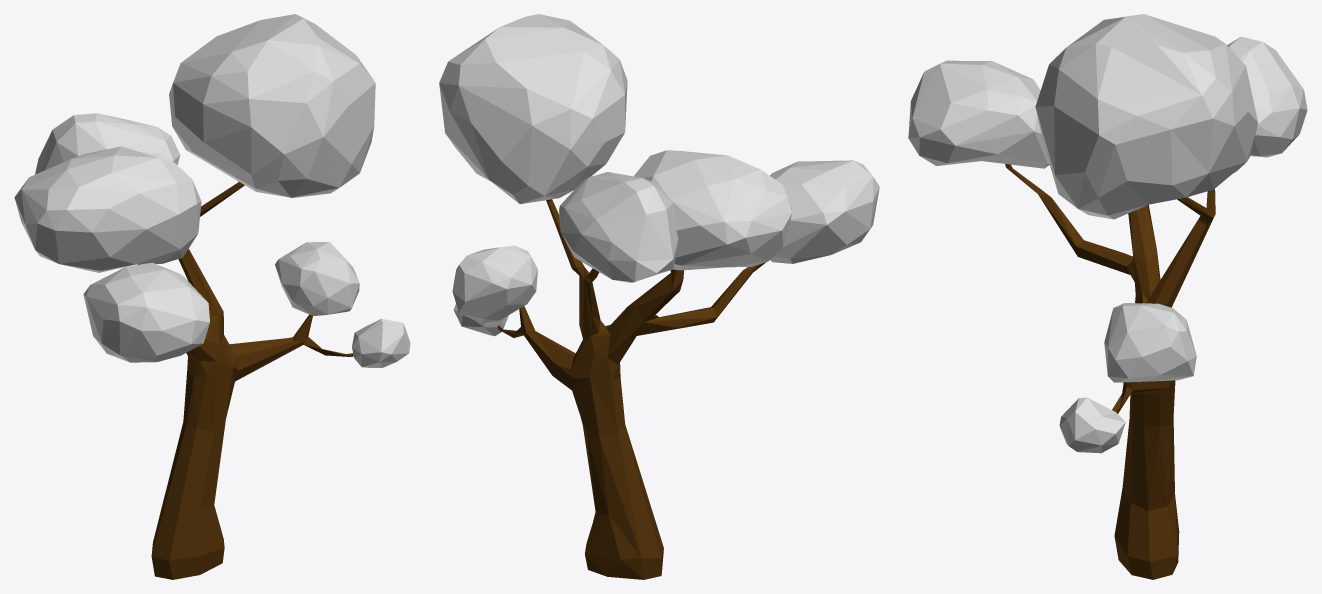
File: parkTree.fbx
The picture shows the model from 3 angles, left to right: view 1: azimuth 30°, elevation 25°; view 2: azimuth 150°, elevation 25°; view 3: azimuth 270°, elevation 25°; orthographic projection. The views are drawn at different scales.
Parts seen in each view (by area): view 1: parkTreeTrunk.001; view 2: parkTreeTrunk.001; view 3: parkTreeTrunk.001.
Part boxes in pixels (x1,y1,x2,y2): parkTreeTrunk.001: [14, 14, 410, 579]; parkTreeTrunk.001: [439, 14, 879, 579]; parkTreeTrunk.001: [908, 14, 1307, 579].
Bounding box in the file's own units: 39452 × 55474 × 33831.
